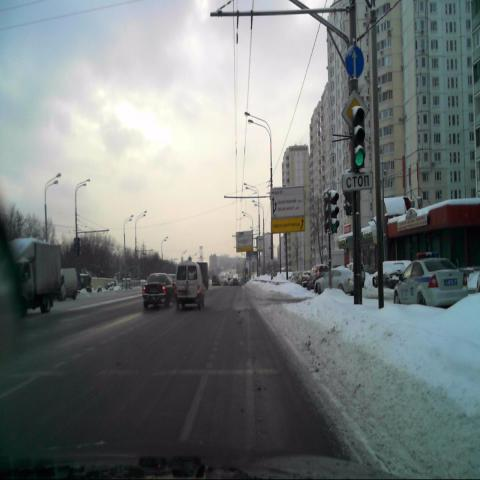4_1_1: (346, 46, 364, 80)
